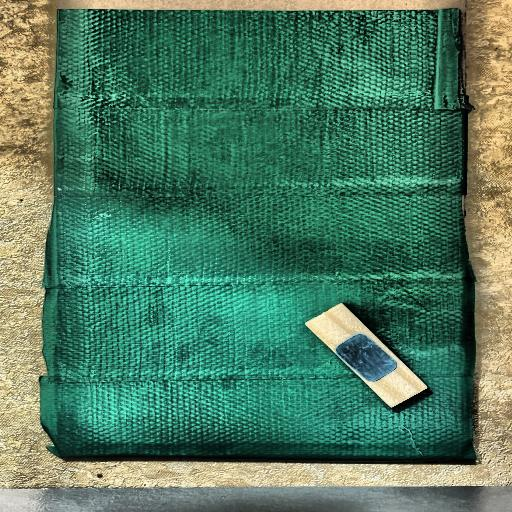objects: (305, 294, 428, 417)
